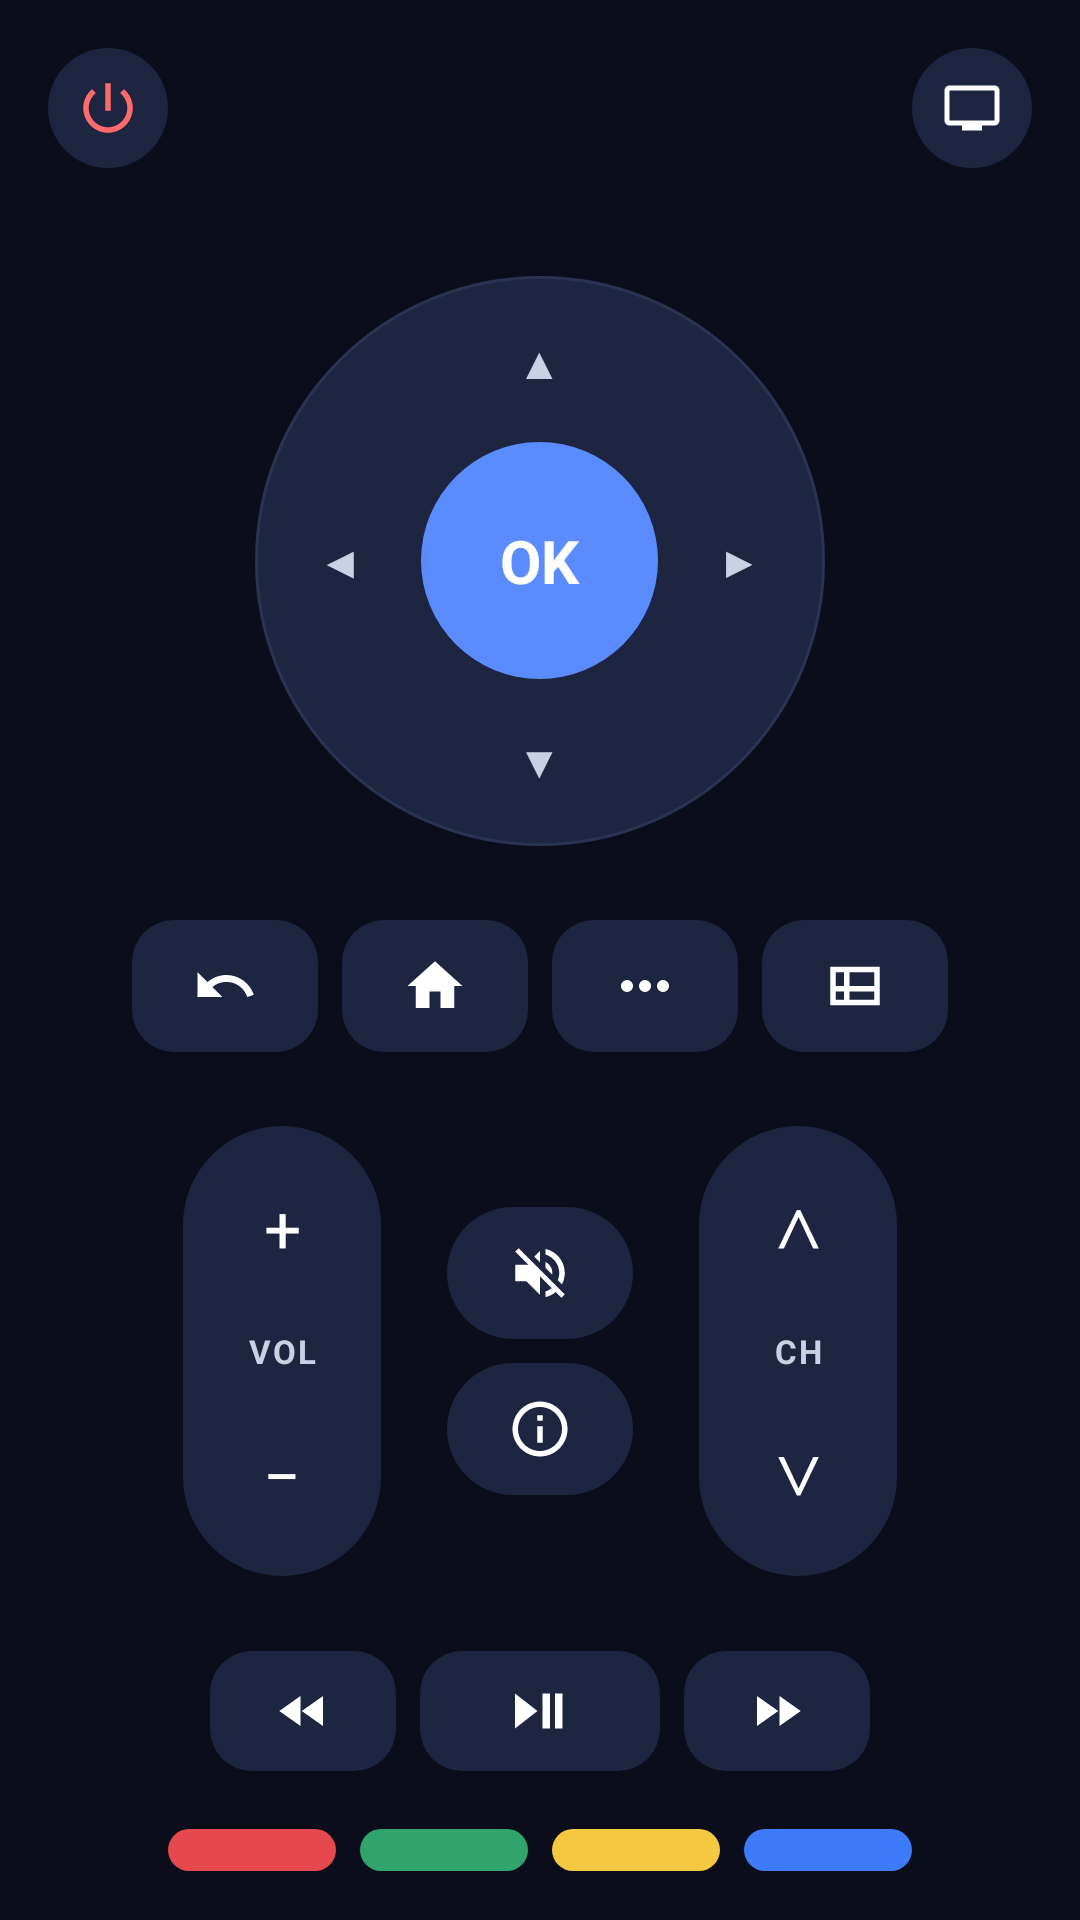

Icons on this 1080w x 1920h Android screen, each with the point to tap as point (x, y):
back: point (225, 986)
guide: point (855, 986)
home: point (435, 986)
info: point (540, 1429)
more: point (645, 986)
mute: point (540, 1273)
open tv: point (972, 108)
play pause: point (540, 1711)
power: point (108, 108)
rew: point (303, 1711)
